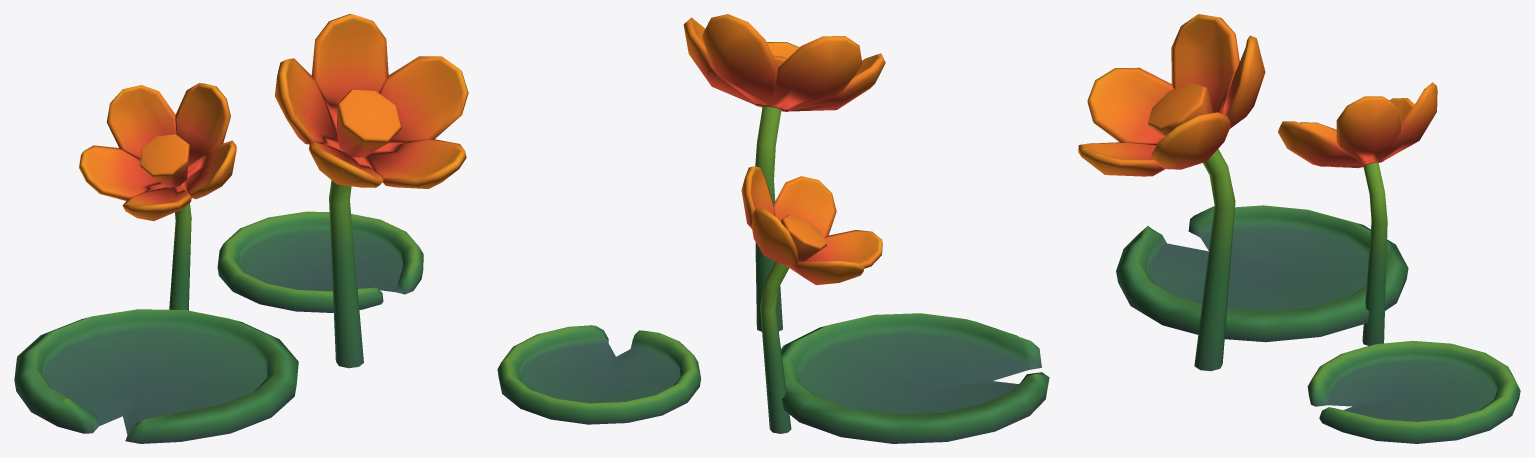
Rendered from Plants_029.fbx.
The picture shows the model from 3 angles, left to right: view 1: azimuth 30°, elevation 25°; view 2: azimuth 150°, elevation 25°; view 3: azimuth 270°, elevation 25°; orthographic projection. The views are drawn at different scales.
Parts seen in each view (by area): view 1: Plants.029; view 2: Plants.029; view 3: Plants.029.
Boxes of the visible parts, <box> form: Plants.029: <box>14,14,468,443</box>; Plants.029: <box>497,14,1049,443</box>; Plants.029: <box>1078,14,1520,443</box>.
Bounding box in the file's own units: 559 × 410 × 462.
